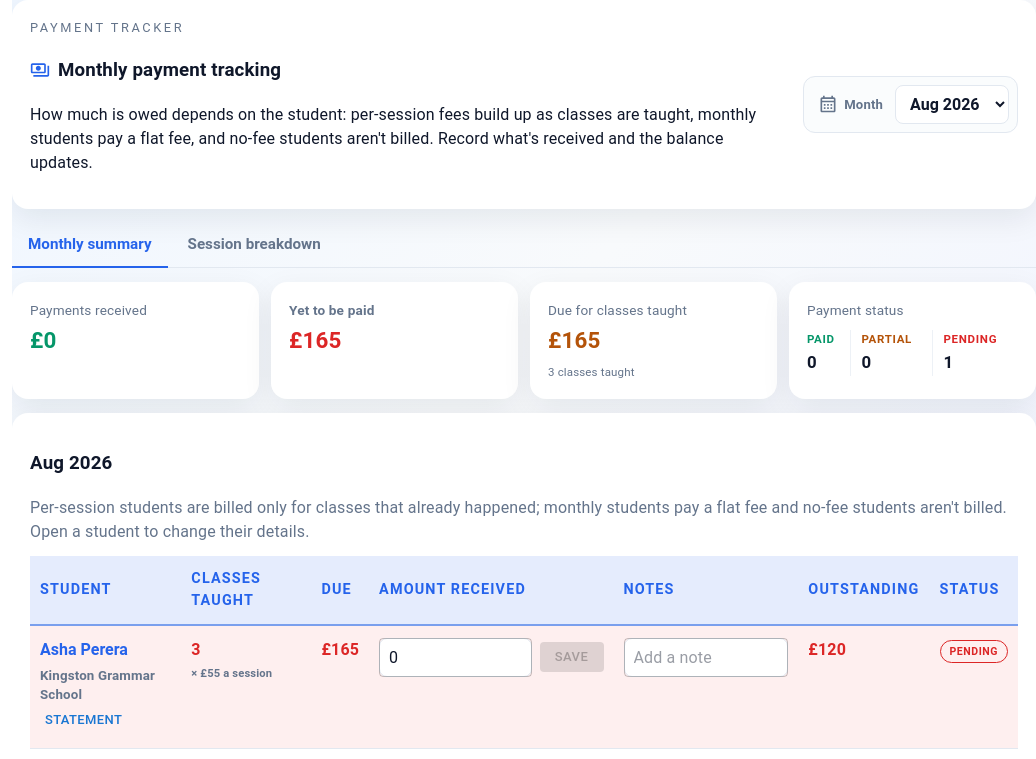
Test: PaymentTrackerView session breakdown › itemises each held class and tallies the total
This screenshot has width=1036, height=759.
expect the column heading "duration" is not shown: met
Click the tab "Session breakdown" at x=254, y=245, box top-left (172, 223), bottom-right (337, 268)
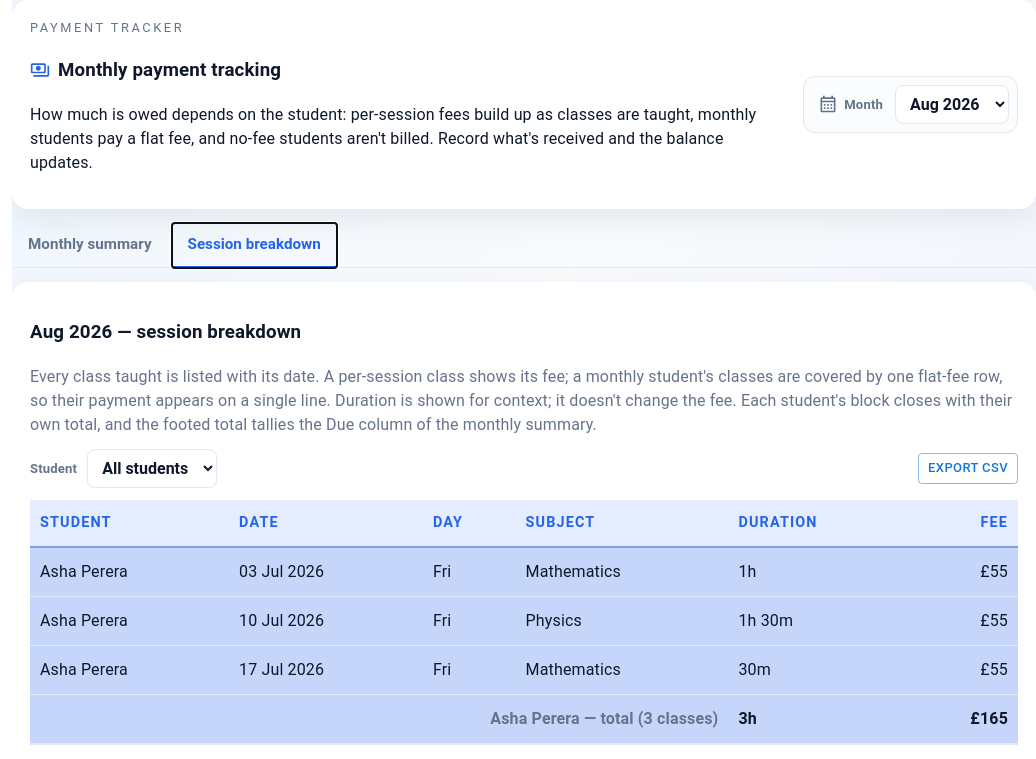
expect the text "03 Jul 2026" is shown: met, box top-left (229, 547), bottom-right (423, 596)
expect the text "10 Jul 2026" is shown: met, box top-left (229, 596), bottom-right (423, 645)
expect the text "Mathematics" is shown 2 times: met, box top-left (516, 547), bottom-right (728, 596); top-left (516, 645), bottom-right (728, 694)
Click the tab "Monthly summary" at x=90, y=245, box top-left (12, 223), bottom-right (168, 268)
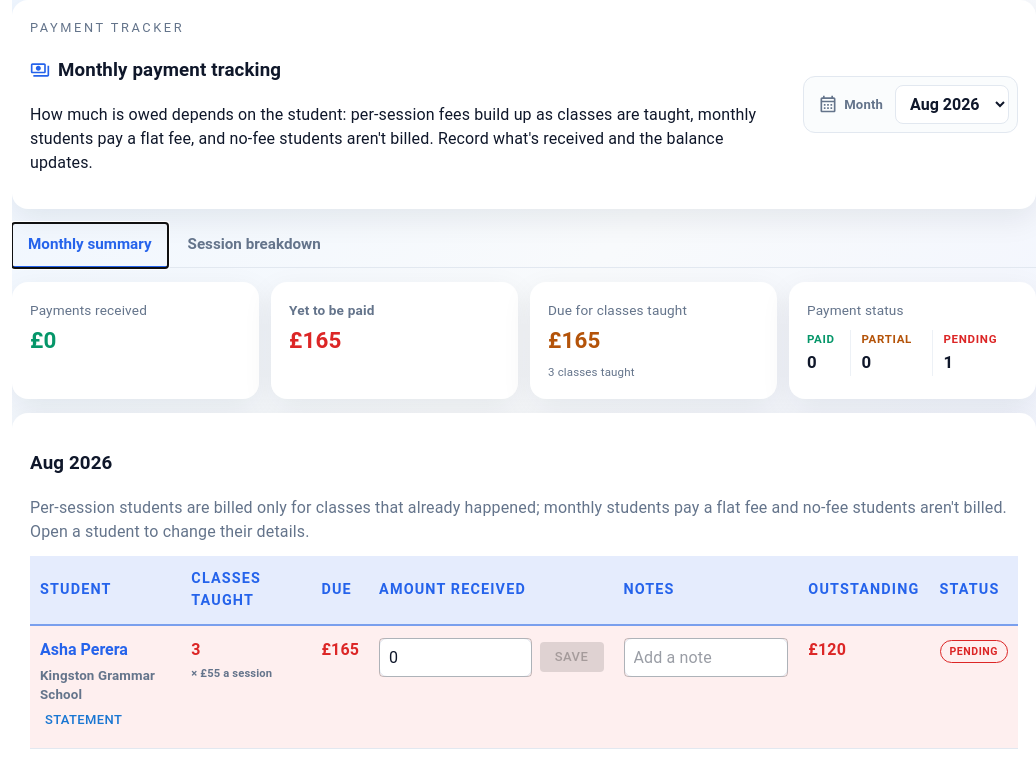
expect the column heading "Classes taught" is shown: met, box top-left (181, 556), bottom-right (311, 624)
expect the column heading "Duration" is gone: met
